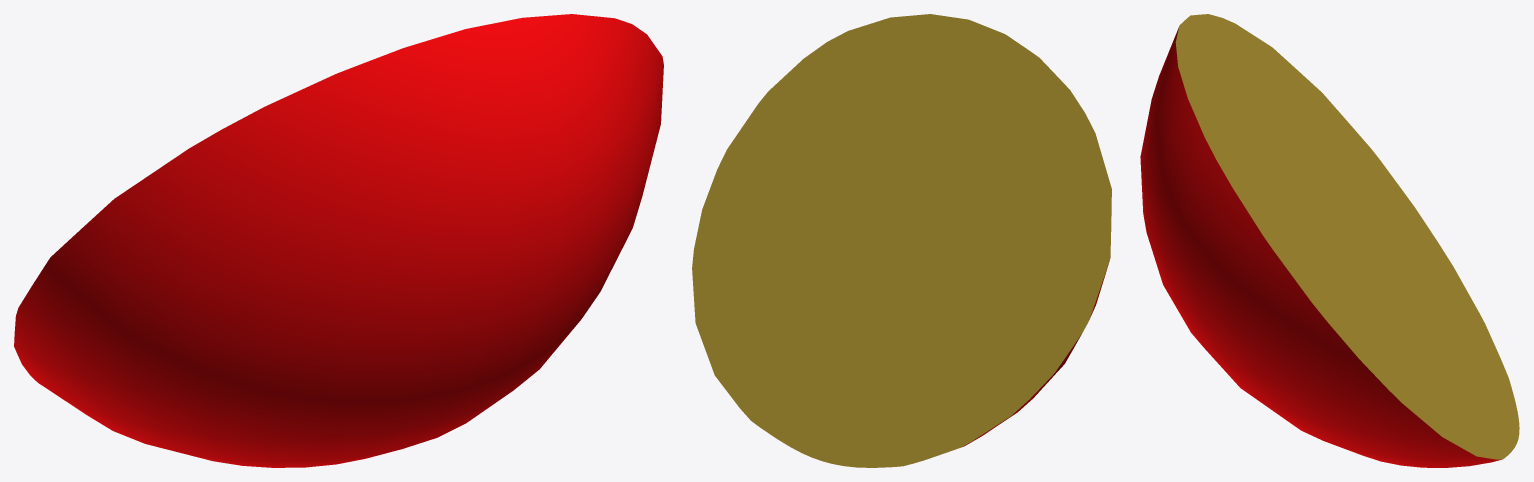
File: apple01.fbx
3 renders of one model, left to right at view 1: azimuth 30°, elevation 25°; view 2: azimuth 150°, elevation 25°; view 3: azimuth 270°, elevation 25°, orthographic. The views are drawn at different scales.
Visible parts, largest first — view 1: apple01; view 2: apple01; view 3: apple01.
Part boxes in pixels (x1,y1,x2,y2): apple01: (14,14,663,467); apple01: (692,14,1111,467); apple01: (1140,14,1519,467).
Bounding box in the file's own units: 0.1666 × 0.1389 × 0.119.
